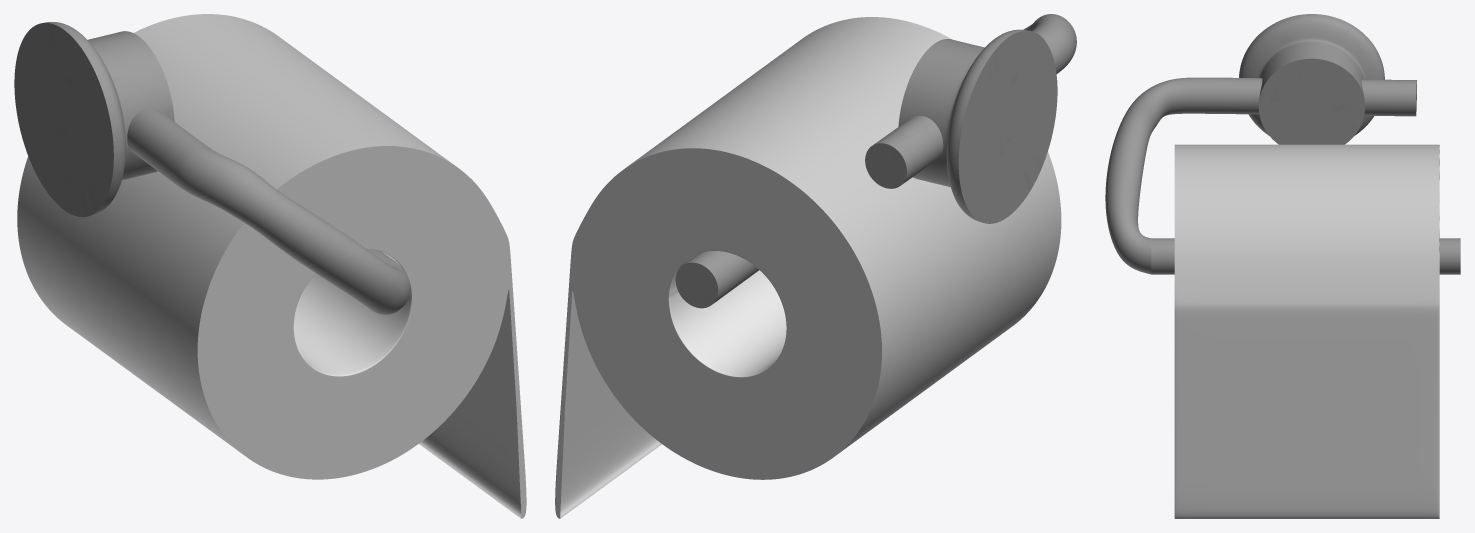
Rendered from Toilet Paper.fbx.
3 renders of one model, left to right at view 1: azimuth 30°, elevation 25°; view 2: azimuth 150°, elevation 25°; view 3: azimuth 270°, elevation 25°, orthographic. The views are drawn at different scales.
Visible parts, largest first — view 1: Cylinder, Cylinder.002, Cylinder.001; view 2: Cylinder, Cylinder.002, Cylinder.001; view 3: Cylinder, Cylinder.002, Cylinder.001.
Boxes of the visible parts, <box> form: Cylinder: <box>17,14,526,518</box>; Cylinder.002: <box>14,22,174,217</box>; Cylinder.001: <box>127,108,410,314</box>; Cylinder: <box>555,17,1061,518</box>; Cylinder.002: <box>898,29,1057,223</box>; Cylinder.001: <box>675,14,1076,308</box>; Cylinder: <box>1174,144,1439,518</box>; Cylinder.002: <box>1239,14,1384,144</box>; Cylinder.001: <box>1105,77,1460,274</box>.
Size of the model in its own units: 237 by 312 by 268.
